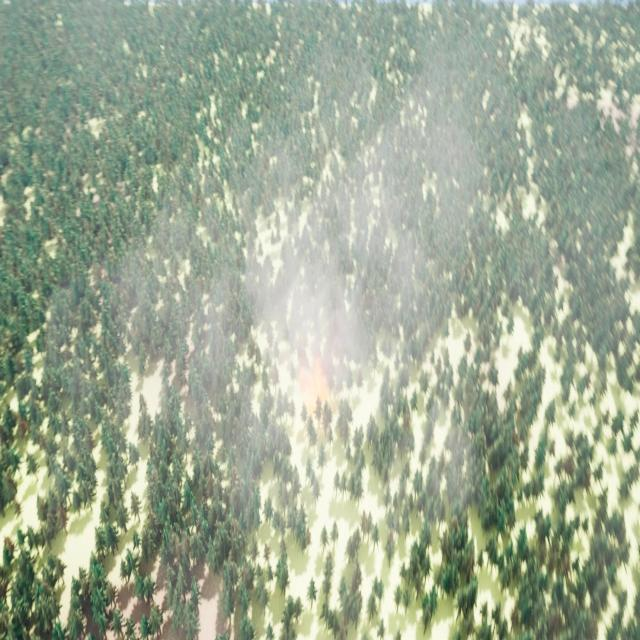fire: (297, 363, 330, 406)
smoke: (46, 95, 516, 511)
